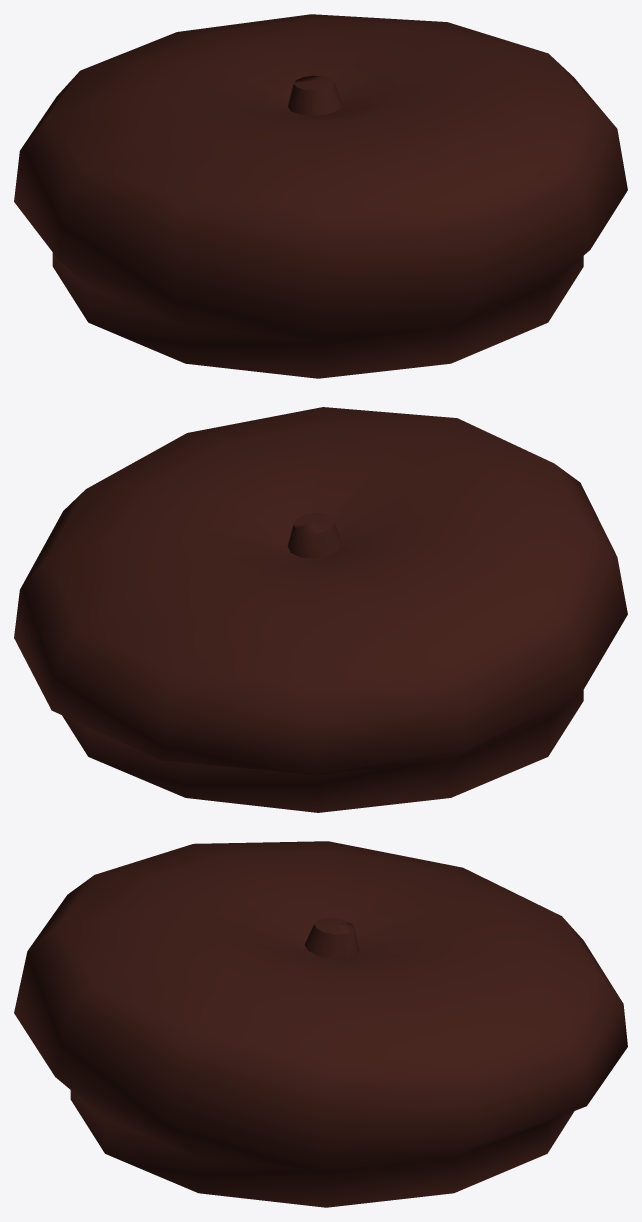
File: Hat_Beret.fbx
3 views of the same model, one above another, from view 1: azimuth 30°, elevation 25°; view 2: azimuth 150°, elevation 25°; view 3: azimuth 270°, elevation 25° (orthographic). The views are drawn at different scales.
Parts seen in each view (by area): view 1: Hat_Beret; view 2: Hat_Beret; view 3: Hat_Beret.
Part boxes in pixels (x1,y1,x2,y2): Hat_Beret: [14, 14, 627, 378]; Hat_Beret: [14, 407, 627, 812]; Hat_Beret: [14, 841, 627, 1207].
Bounding box in the file's own units: 1.17 × 0.4128 × 1.23.
